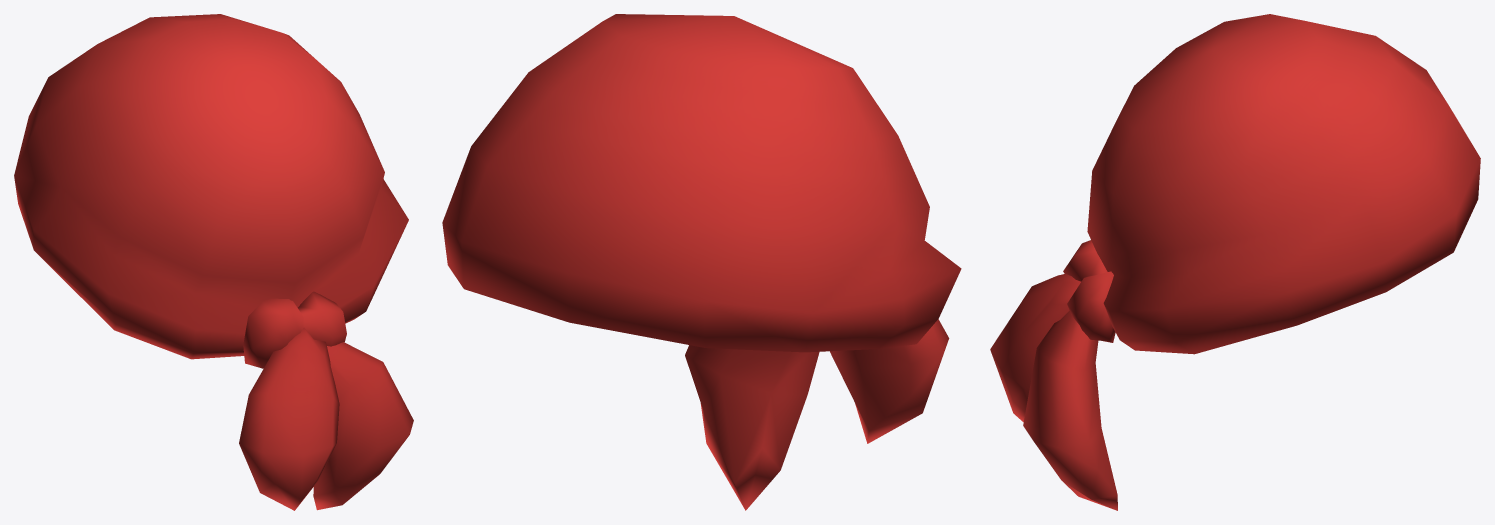
Rendered from Headgear_11.fbx.
The picture shows the model from 3 angles, left to right: view 1: azimuth 30°, elevation 25°; view 2: azimuth 150°, elevation 25°; view 3: azimuth 270°, elevation 25°; orthographic projection. The views are drawn at different scales.
Visible parts, largest first — view 1: Headgear_11; view 2: Headgear_11; view 3: Headgear_11.
Boxes of the visible parts, left/top/right/bottom form: Headgear_11: left=14, top=14, right=413, bottom=510; Headgear_11: left=442, top=14, right=961, bottom=510; Headgear_11: left=990, top=14, right=1480, bottom=510.
Bounding box in the file's own units: 84.18 × 104 × 102.
